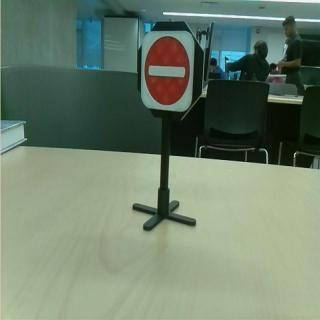sign_noentry: (140, 30, 196, 114)
